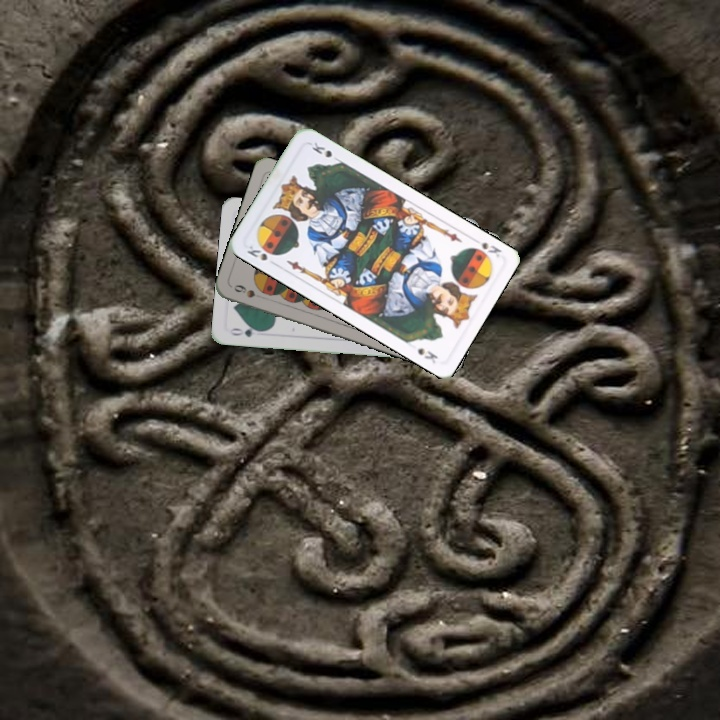GO: (226, 322, 266, 340)
S9: (230, 280, 266, 301)
SK: (476, 238, 504, 260), (243, 241, 270, 263)
